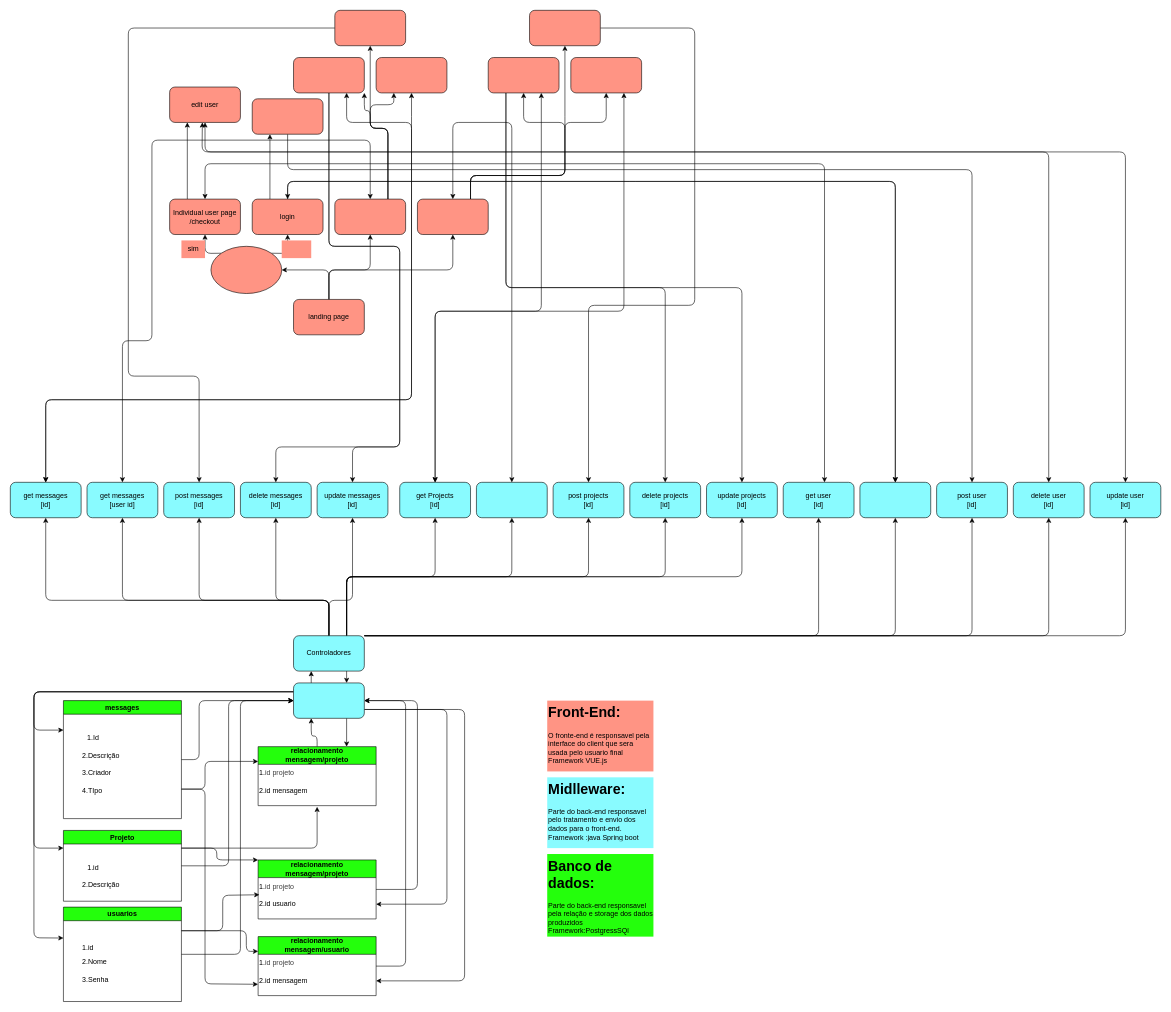
This 1171x1012 diagram has some shape labels left out. The shapes that lost their labels are listed below. From the top down, each one's centre as x and y in pixels, then its label:
At [370,28]: "create messages".
At [564,28]: "create projects".
At [328,75]: "edit messages".
At [411,75]: "read individual messages".
At [523,75]: "edit projects".
At [606,75]: "read individual projects".
At [287,116]: "cadastro".
At [370,217]: "message boad".
At [452,217]: "Project board".
At [296,249]: "Não".
At [246,270]: "usuario logado?".
At [511,500]: "get projects [user id]".
At [895,500]: "get login [id,username ,password]".
At [328,700]: "Servicoes de acesso ao banco de dados".
